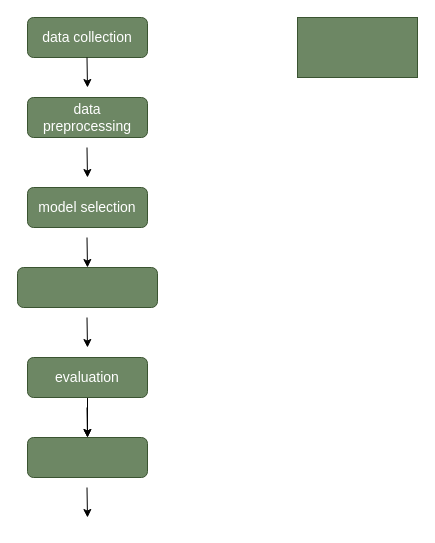
The diagram is 435 pixels wide and 543 high, and some of its shapes have lost their labels. The centre of each missing label's shape, as x and y in pixels:
"final model" belongs at point 87,457.
"training & validation" belongs at point 87,287.
